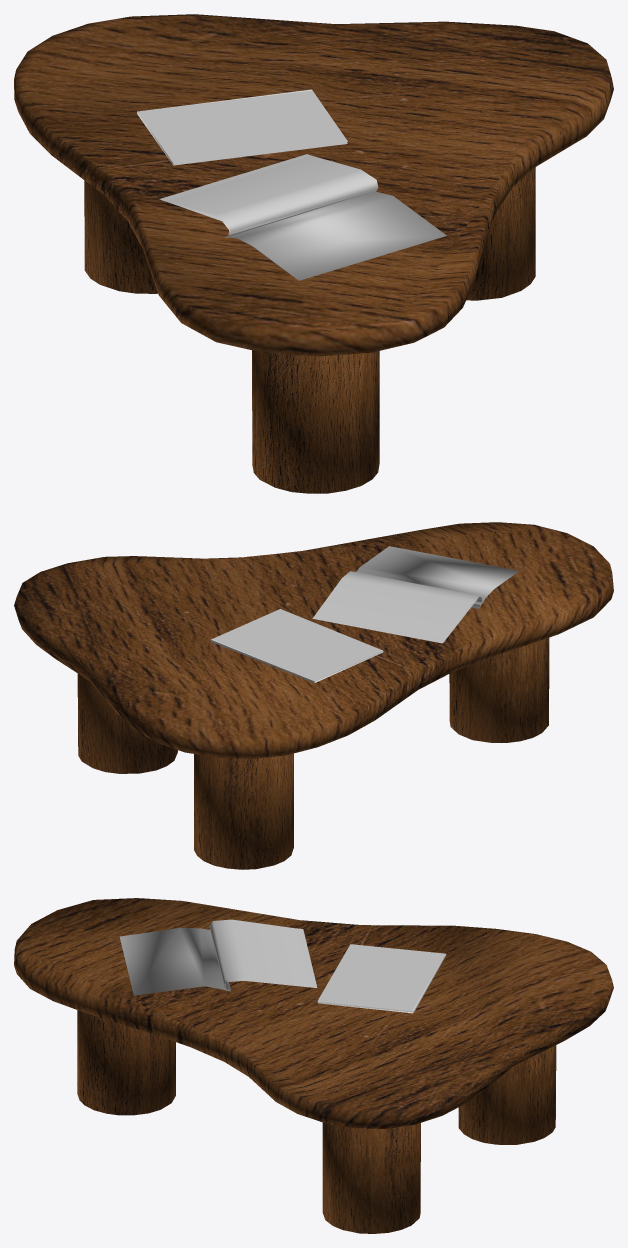
The model's file is tavolino_low.fbx.
3 views of the same model, one above another, from view 1: azimuth 30°, elevation 25°; view 2: azimuth 150°, elevation 25°; view 3: azimuth 270°, elevation 25° (orthographic). The views are drawn at different scales.
Parts seen in each view (by area): view 1: table; view 2: table; view 3: table.
Boxes of the visible parts, x1,y1,x2,y2 form: table: (14,14,613,493); table: (14,522,613,869); table: (14,898,613,1233).
Bounding box in the file's own units: 141 × 49.66 × 166.
